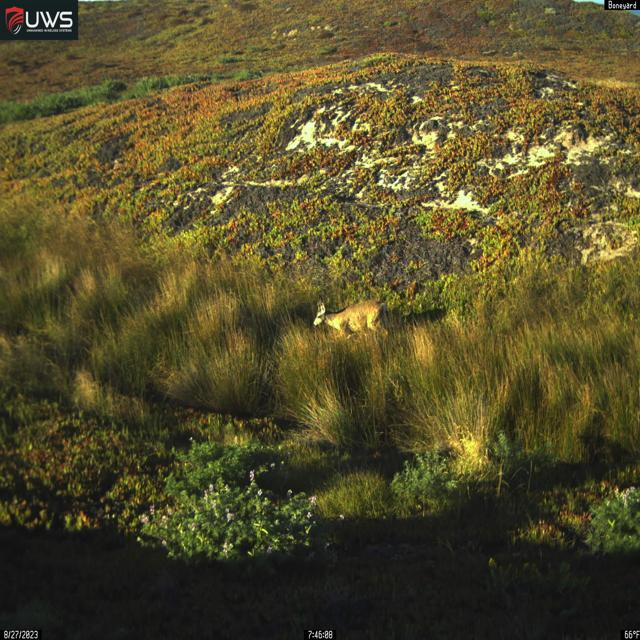deer: (313, 299, 389, 343)
